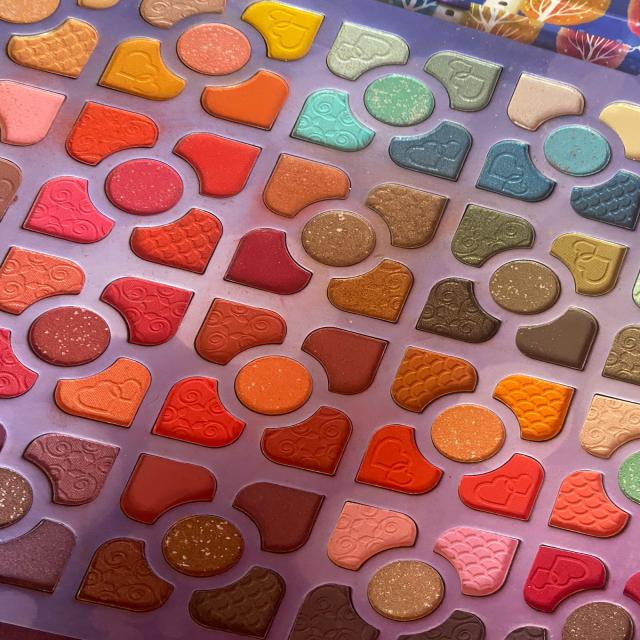eye shade: (5, 0, 640, 636)
